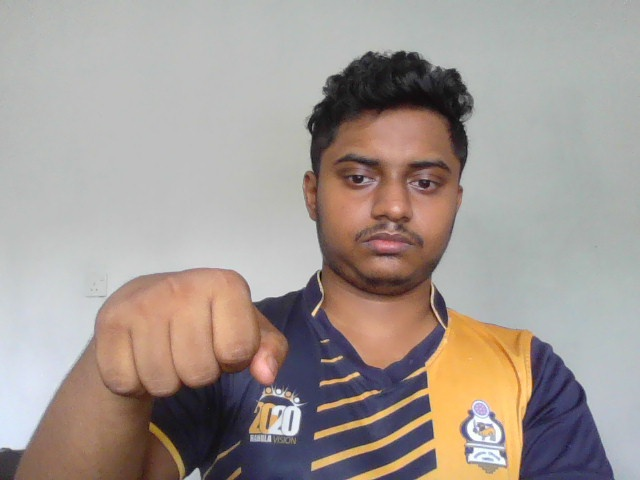Yes: (90, 267, 295, 398)
